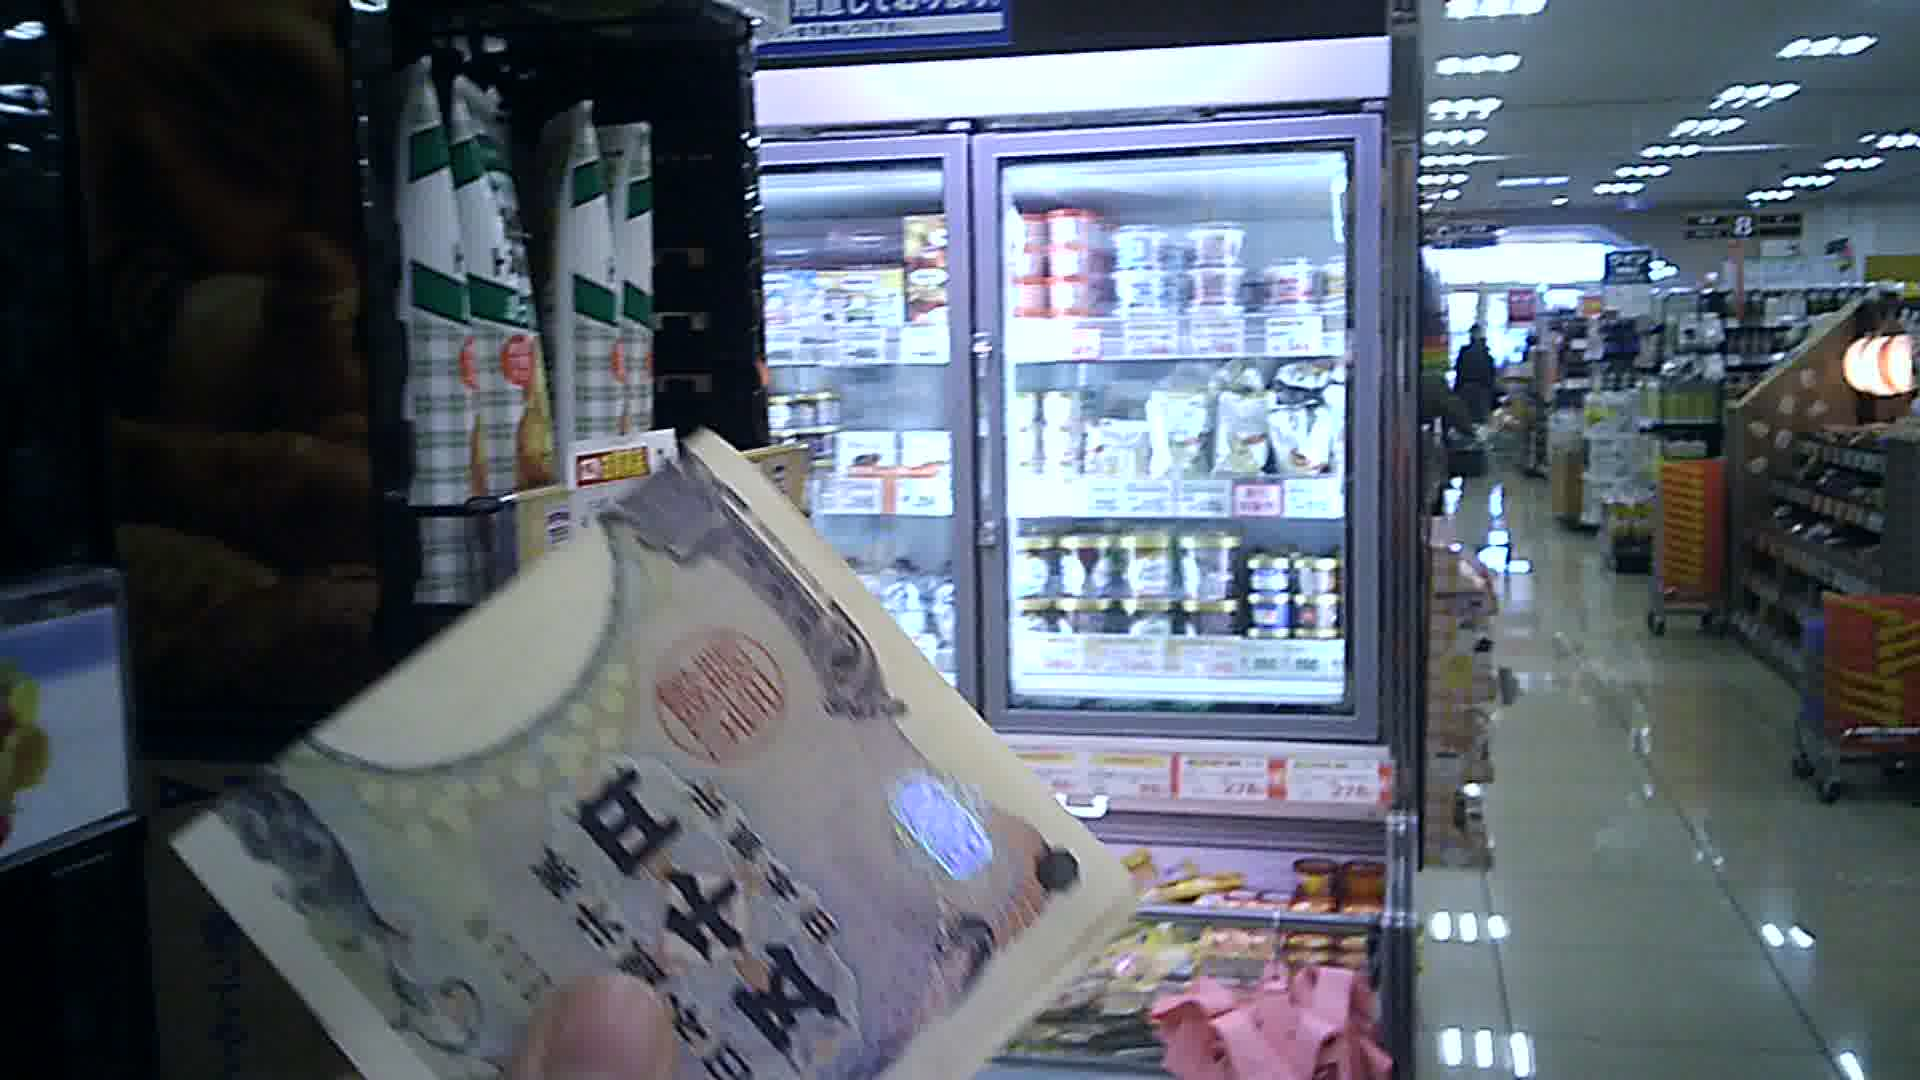5,000 Yen: (193, 404, 1109, 1067)
